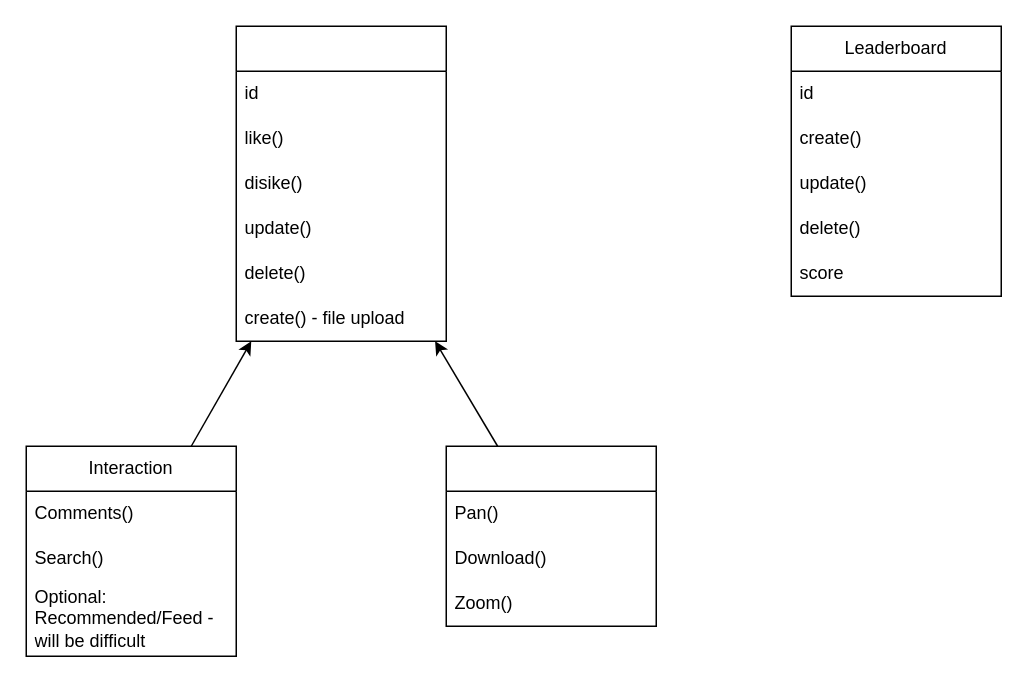
Some shapes in this 1028 by 683 pixel diagram are drawn without their labels. Each missing label, with the box of its shape:
Images: (445, 445, 656, 626)
Spacebook: (235, 25, 446, 341)
